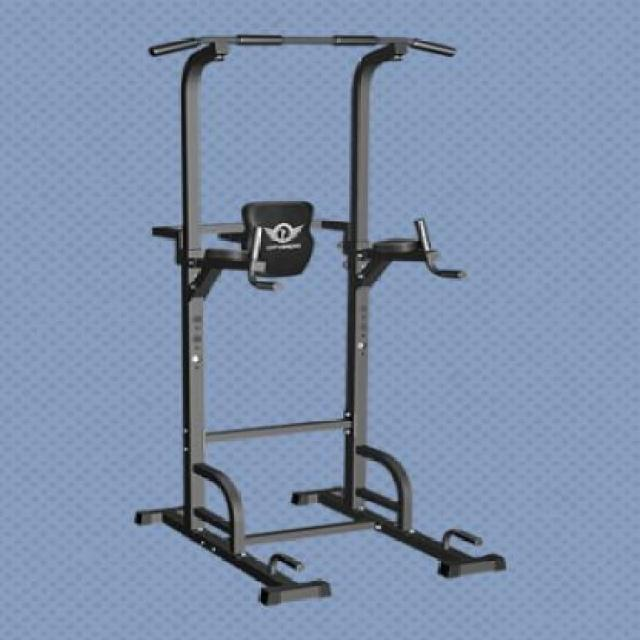chinning dipping: (142, 28, 510, 603)
